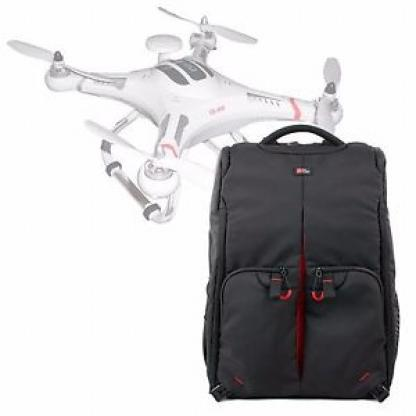drone: (4, 2, 373, 218)
